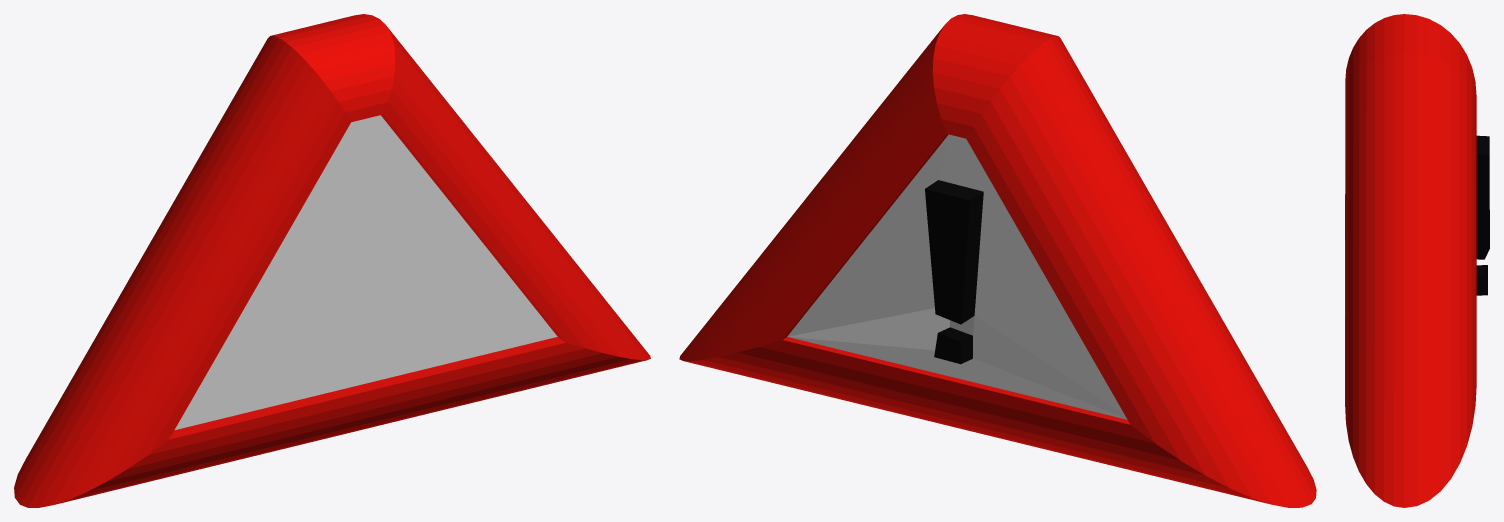
File: Warning.fbx
3 renders of one model, left to right at view 1: azimuth 30°, elevation 25°; view 2: azimuth 150°, elevation 25°; view 3: azimuth 270°, elevation 25°, orthographic. The views are drawn at different scales.
Visible parts, largest first — view 1: Cube; view 2: Cube; view 3: Cube.
Boxes of the visible parts, x1,y1,x2,y2 form: Cube: (14, 14, 650, 507); Cube: (679, 14, 1316, 507); Cube: (1345, 14, 1489, 507).
Bounding box in the file's own units: 330 × 200 × 76.61.
